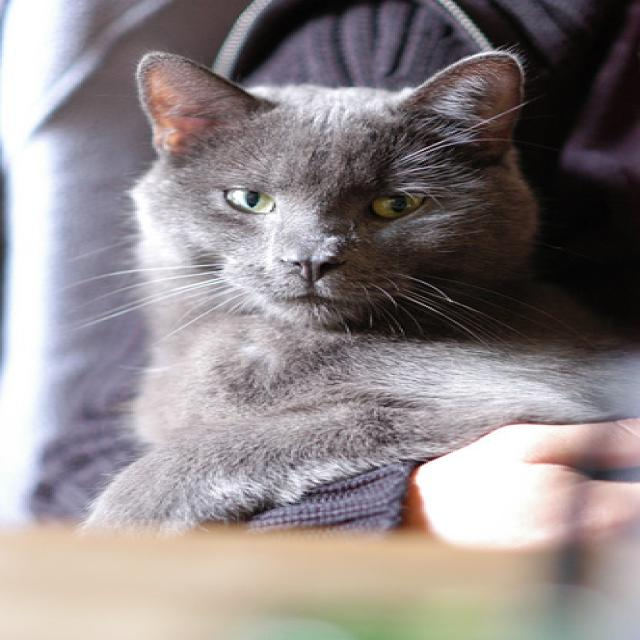left eye: (366, 189, 426, 219)
